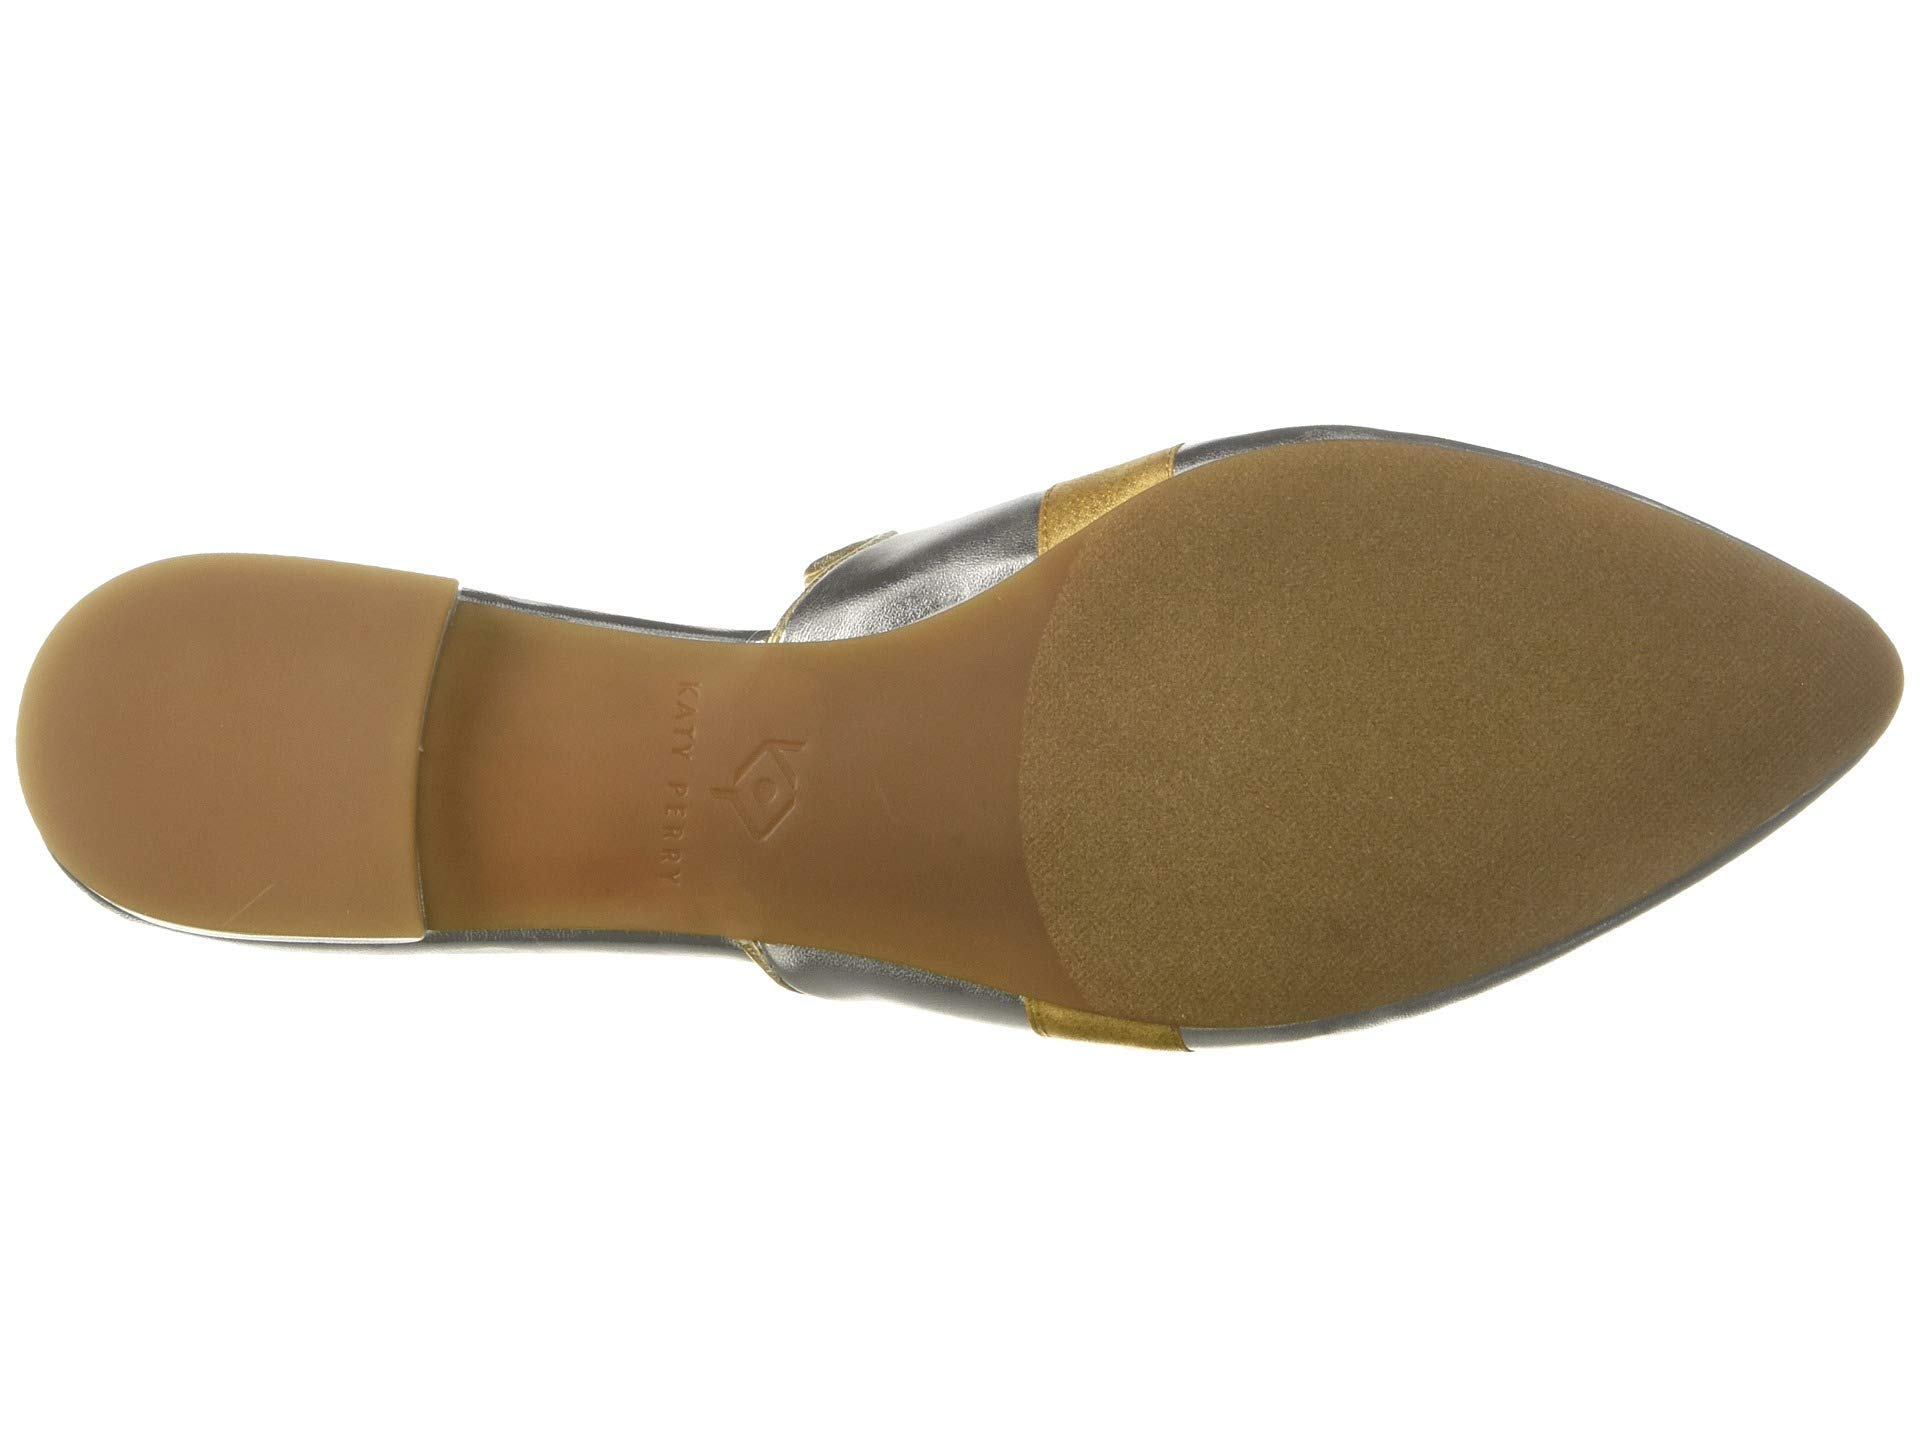exclude: (413, 573, 1037, 1001)
